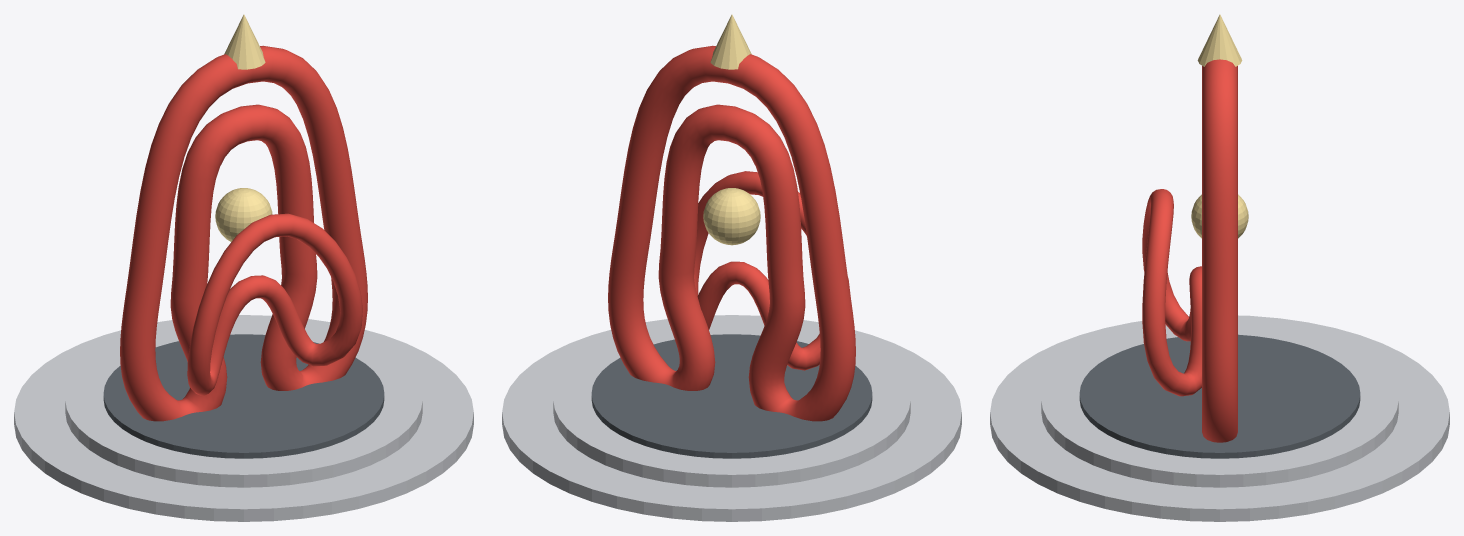
File: monument_red_ring.glb
The picture shows the model from 3 angles, left to right: view 1: azimuth 30°, elevation 25°; view 2: azimuth 150°, elevation 25°; view 3: azimuth 270°, elevation 25°; orthographic projection.
Visible parts, largest first — view 1: RedArch_Structure, Pedestal_Tier1, Pedestal_Core, Pedestal_Tier2, RedArch_Accent, Gold_Core_Orb, Crown_Finial; view 2: RedArch_Structure, Pedestal_Tier1, Pedestal_Core, Pedestal_Tier2, RedArch_Accent, Gold_Core_Orb, Crown_Finial; view 3: Pedestal_Tier1, Pedestal_Core, Pedestal_Tier2, RedArch_Structure, RedArch_Accent, Crown_Finial, Gold_Core_Orb.
Part boxes in pixels (x1,y1,x2,y2): RedArch_Structure: (120, 45, 367, 421); Pedestal_Tier1: (14, 315, 473, 521); Pedestal_Core: (103, 334, 384, 458); Pedestal_Tier2: (65, 324, 422, 487); RedArch_Accent: (187, 213, 362, 395); Gold_Core_Orb: (215, 188, 272, 241); Crown_Finial: (224, 14, 265, 69); RedArch_Structure: (608, 45, 855, 421); Pedestal_Tier1: (502, 315, 961, 521); Pedestal_Core: (591, 334, 872, 458); Pedestal_Tier2: (553, 324, 910, 487); RedArch_Accent: (694, 171, 850, 370); Gold_Core_Orb: (703, 188, 760, 245); Crown_Finial: (710, 14, 751, 69); Pedestal_Tier1: (990, 315, 1449, 521); Pedestal_Core: (1079, 334, 1360, 458); Pedestal_Tier2: (1041, 324, 1398, 487); RedArch_Structure: (1202, 59, 1237, 442); RedArch_Accent: (1142, 189, 1201, 396); Crown_Finial: (1197, 14, 1242, 66); Gold_Core_Orb: (1191, 194, 1248, 238).
Bounding box in the file's own units: 7.2 × 7.1 × 7.2.
